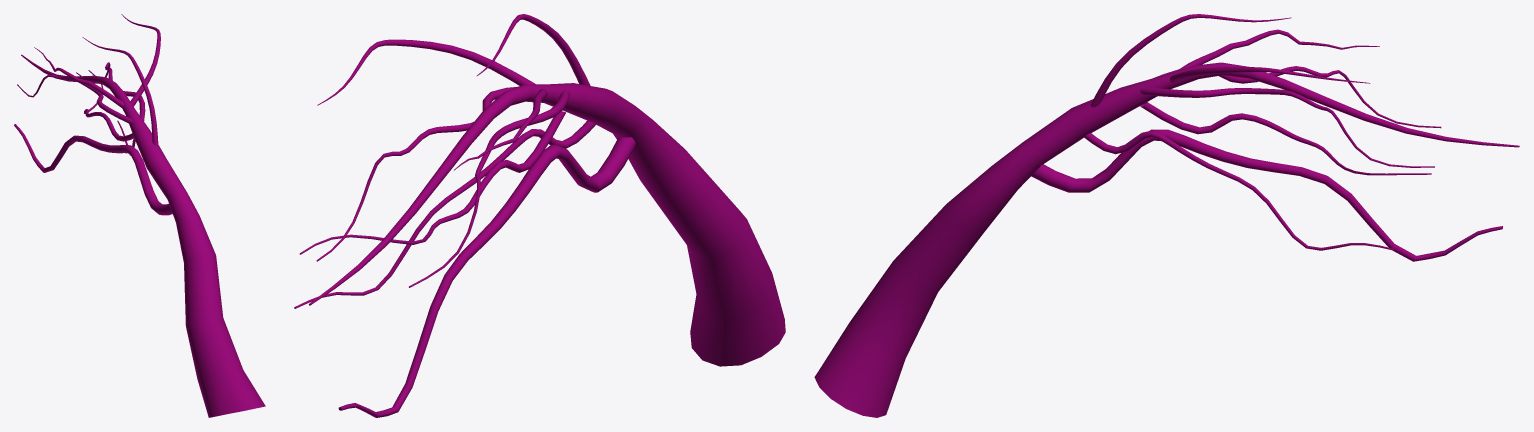
File: rama 2.fbx
3 renders of one model, left to right at view 1: azimuth 30°, elevation 25°; view 2: azimuth 150°, elevation 25°; view 3: azimuth 270°, elevation 25°, orthographic. The views are drawn at different scales.
Visible parts, largest first — view 1: polySurface9, polySurface8, polySurface13, polySurface21, polySurface11, polySurface6, polySurface7, polySurface22; view 2: polySurface9, polySurface8, polySurface12, polySurface7, polySurface11, polySurface21, polySurface22, polySurface13, polySurface6; view 3: polySurface9, polySurface8, polySurface12, polySurface7, polySurface22, polySurface13, polySurface11, polySurface6, polySurface21.
Part boxes in pixels (x1,y1,x2,y2): polySurface9: [21, 54, 265, 417]; polySurface8: [14, 124, 172, 215]; polySurface13: [82, 37, 158, 146]; polySurface21: [17, 74, 132, 124]; polySurface11: [121, 14, 160, 106]; polySurface6: [34, 47, 123, 108]; polySurface7: [84, 70, 133, 141]; polySurface22: [76, 62, 145, 121]; polySurface9: [309, 83, 785, 366]; polySurface8: [338, 137, 635, 417]; polySurface12: [294, 120, 596, 308]; polySurface7: [299, 111, 565, 254]; polySurface11: [317, 39, 535, 105]; polySurface21: [409, 89, 569, 287]; polySurface22: [316, 87, 516, 261]; polySurface13: [477, 14, 590, 85]; polySurface6: [454, 89, 547, 170]; polySurface9: [814, 62, 1519, 417]; polySurface8: [1031, 129, 1502, 261]; polySurface12: [1084, 131, 1394, 250]; polySurface7: [1140, 102, 1431, 175]; polySurface22: [1139, 87, 1434, 167]; polySurface13: [1090, 14, 1291, 107]; polySurface11: [1170, 67, 1370, 83]; polySurface6: [1178, 29, 1379, 70]; polySurface21: [1153, 66, 1441, 128].
Bounding box in the file's own units: 7.64 × 20.64 × 32.82.
